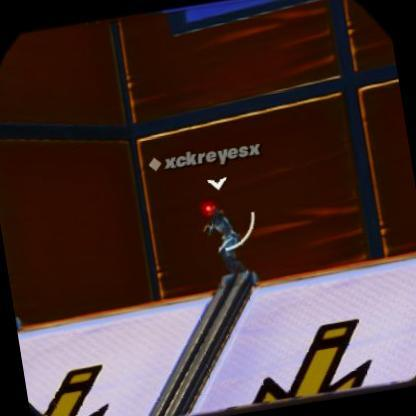person: (195, 198, 249, 284)
